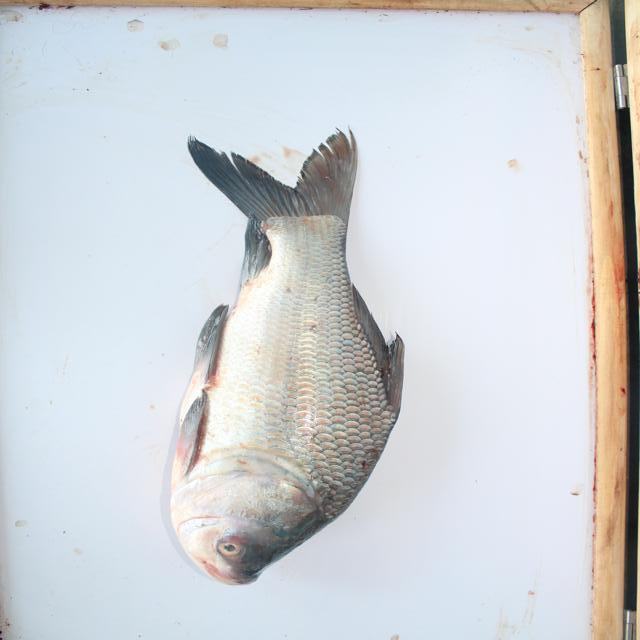Catla: (157, 125, 404, 592)
